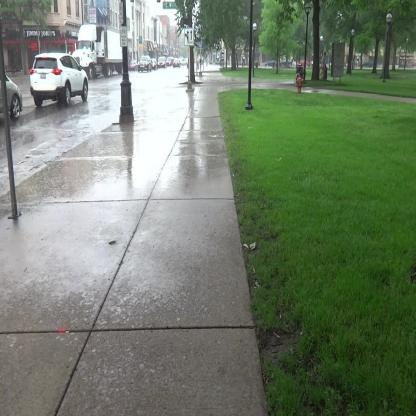Car: (24, 44, 88, 101), (2, 74, 23, 124), (141, 56, 152, 74), (160, 59, 167, 70), (175, 62, 181, 68)
